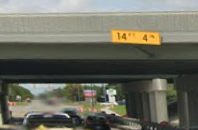1: (114, 30, 121, 42)
4: (141, 33, 149, 43), (120, 31, 127, 42)
overheadsign: (110, 29, 161, 47)
